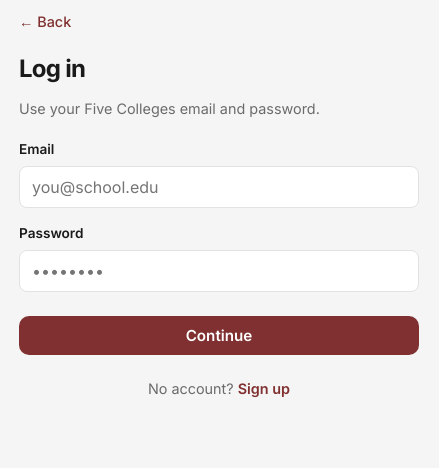
LoginPage › shows an inline error if sign-in fails
Type "student@umass.edu" into the field labelled "Email".
click(219, 187); type("student@umass.edu")  # box [19,166,419,208]
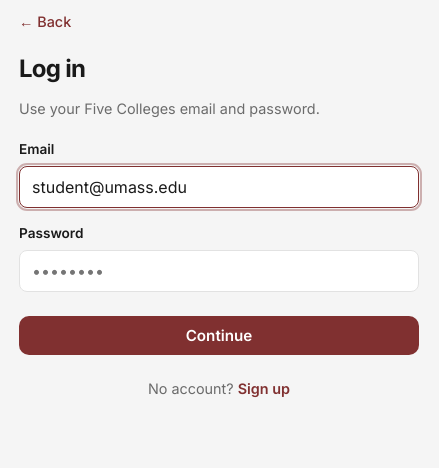
Type "wrong-pass" into the password field labelled "Password".
click(219, 270); type("wrong-pass")  # box [19,250,419,292]
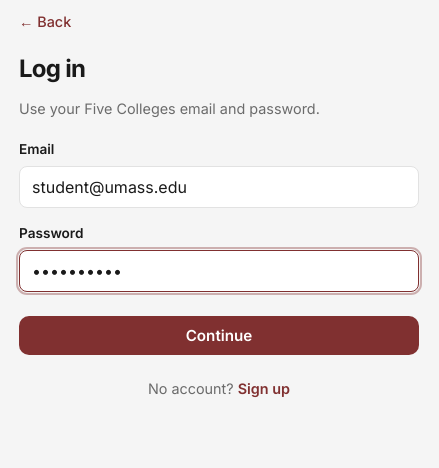
Click the button "Continue".
click(219, 335)  # box [19,316,419,354]
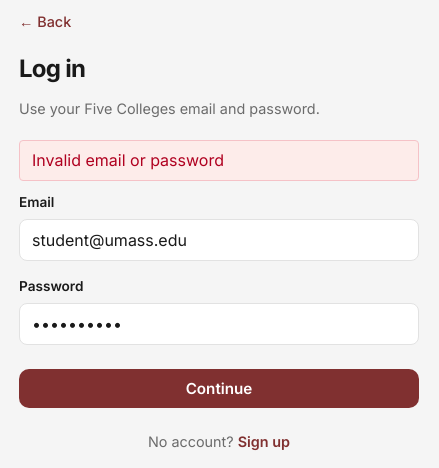
Expected: the message reads "Invalid email or password", [32,150,224,170]
